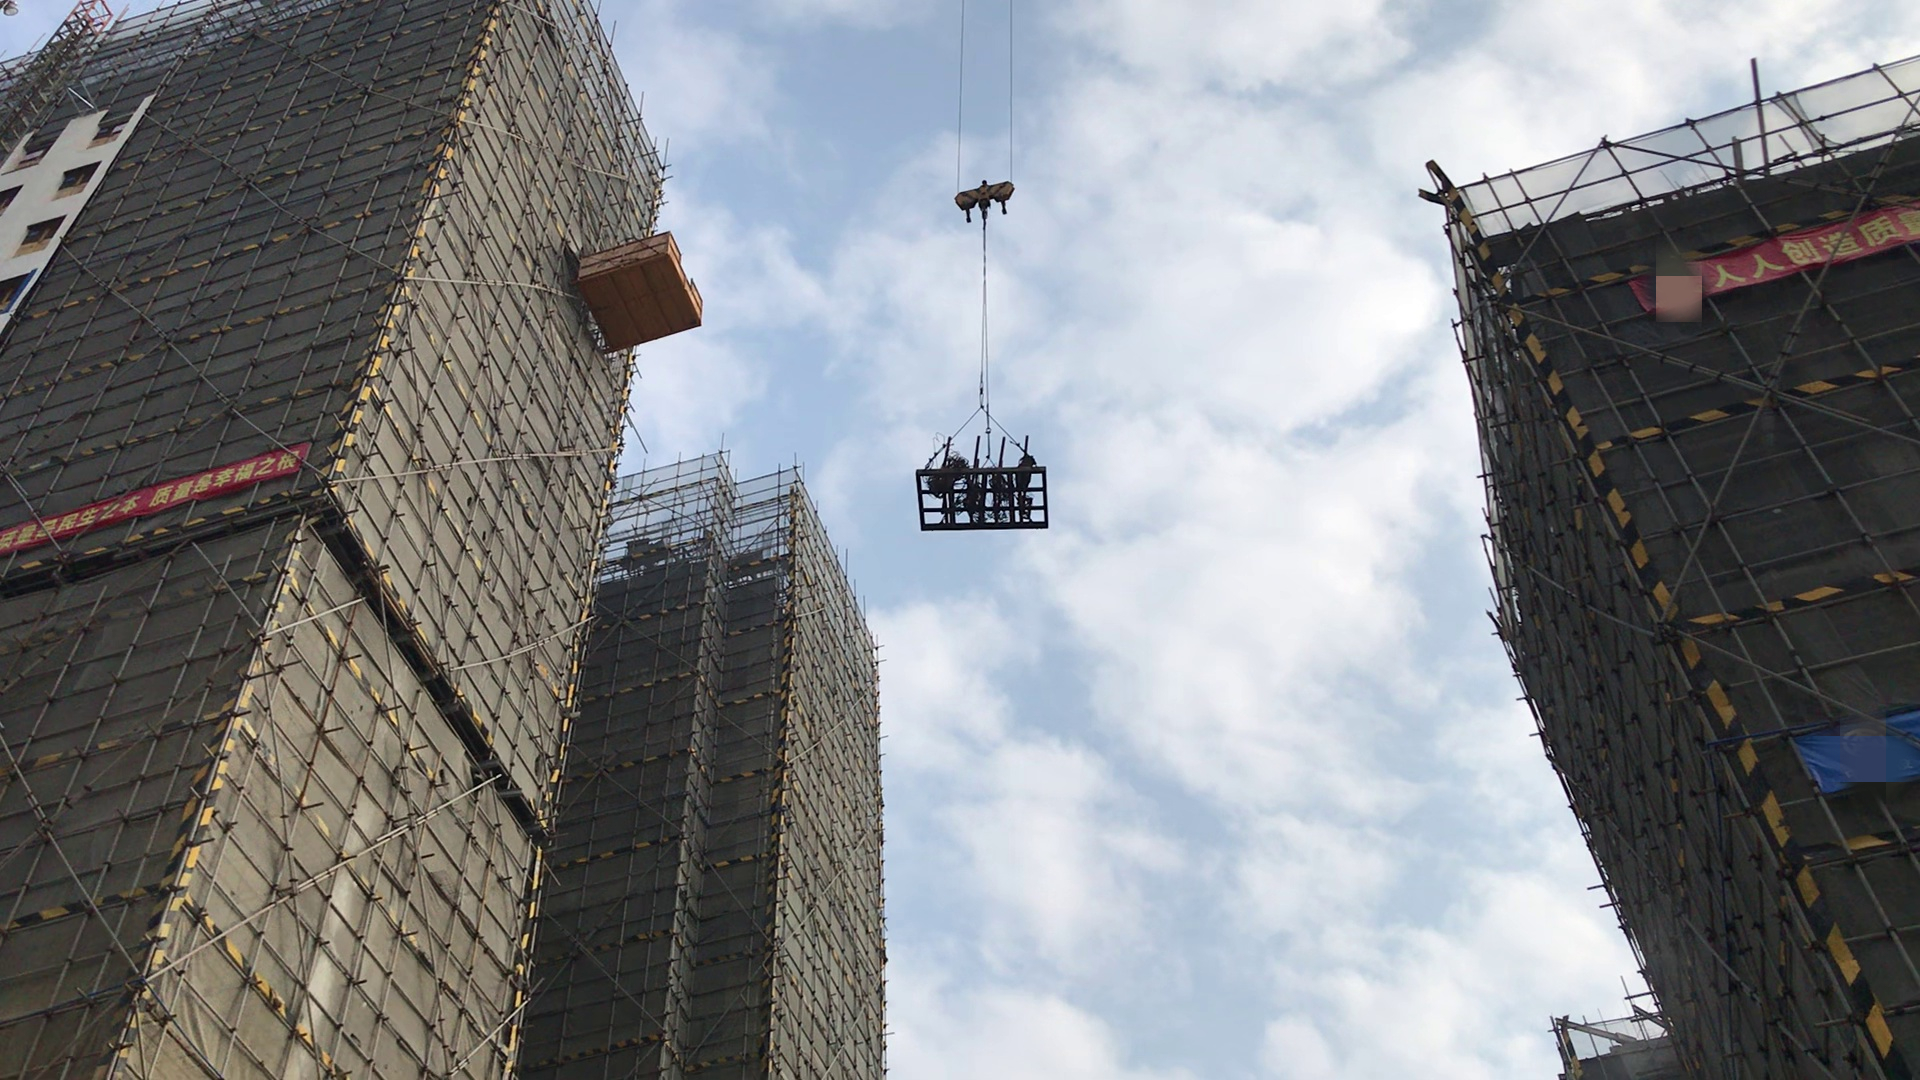hook: (951, 170, 1035, 229)
slogan: (3, 458, 327, 587), (1627, 208, 1920, 316)
